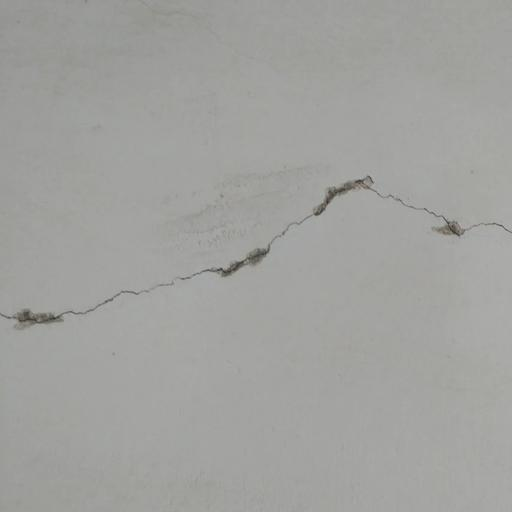major_crack: (0, 169, 512, 359)
